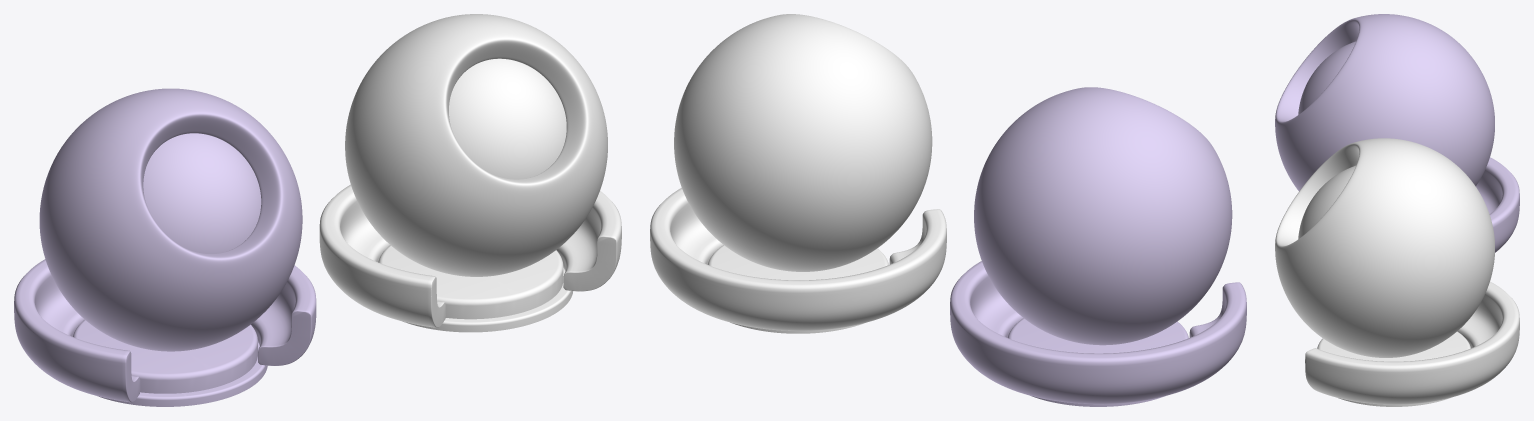
3 views of the same model, side by side, from view 1: azimuth 30°, elevation 25°; view 2: azimuth 150°, elevation 25°; view 3: azimuth 270°, elevation 25° (orthographic). The views are drawn at different scales.
Visible parts, largest first — view 1: Preview_Mesh, Preview_Mesh_material_1, Calibration_Mesh_material_1, Calibration_Mesh; view 2: Preview_Mesh, Preview_Mesh_material_1, Calibration_Mesh, Calibration_Mesh_material_1; view 3: Preview_Mesh_material_1, Preview_Mesh, Calibration_Mesh_material_1, Calibration_Mesh.
Part boxes in pixels (x1,y1,x2,y2): Preview_Mesh: [14, 88, 316, 402]; Preview_Mesh_material_1: [319, 14, 621, 327]; Calibration_Mesh_material_1: [378, 58, 573, 332]; Calibration_Mesh: [73, 133, 267, 406]; Preview_Mesh: [950, 87, 1246, 404]; Preview_Mesh_material_1: [650, 14, 946, 330]; Calibration_Mesh: [1008, 318, 1188, 406]; Calibration_Mesh_material_1: [708, 245, 888, 333]; Preview_Mesh_material_1: [1275, 138, 1519, 404]; Preview_Mesh: [1275, 14, 1519, 252]; Calibration_Mesh_material_1: [1298, 165, 1470, 406]; Calibration_Mesh: [1298, 41, 1355, 114].
Size of the model in its own units: 4.64 by 2.09 by 2.08.
